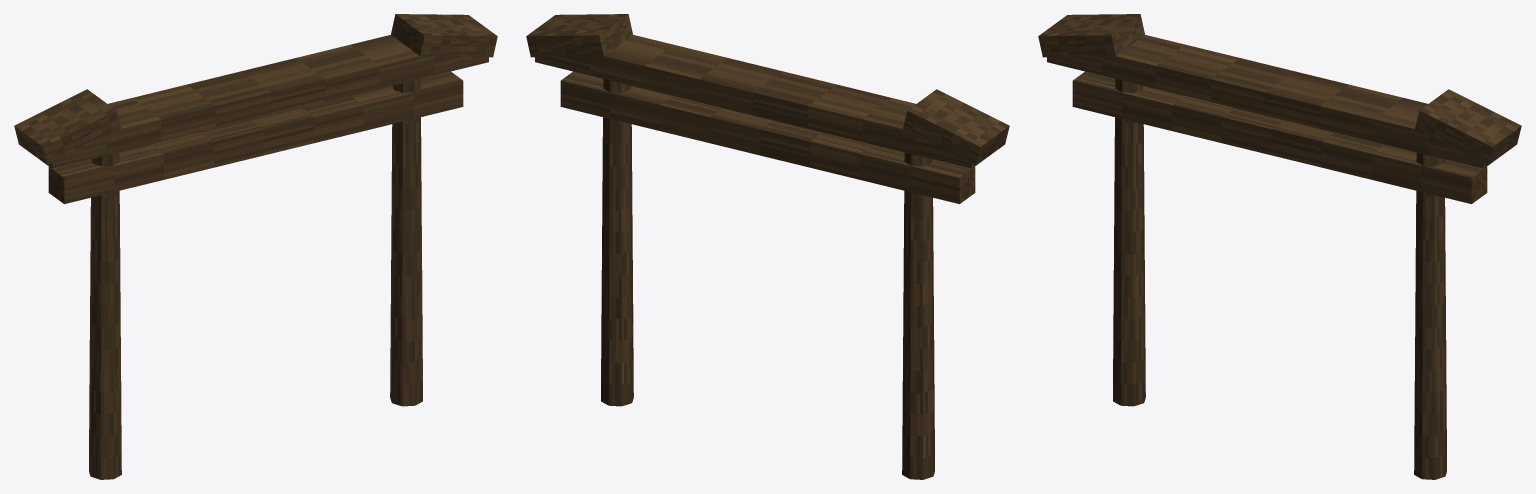
Rendered from gate_21.glb.
3 renders of one model, left to right at view 1: azimuth 30°, elevation 25°; view 2: azimuth 150°, elevation 25°; view 3: azimuth 330°, elevation 25°, orthographic.
Parts seen in each view (by area): view 1: Roof, Lintel, Pillar, Pillar.001, RaisedEave, RaisedEave.001; view 2: Roof, Lintel, Pillar, Pillar.001, RaisedEave, RaisedEave.001; view 3: Roof, Lintel, Pillar.001, Pillar, RaisedEave.001, RaisedEave.
Part boxes in pixels (x1,y1,x2,y2): Roof: [48, 35, 488, 168]; Lintel: [48, 71, 463, 204]; Pillar: [89, 152, 121, 479]; Pillar.001: [390, 79, 422, 406]; RaisedEave: [14, 89, 120, 165]; RaisedEave.001: [391, 14, 497, 57]; Roof: [535, 35, 975, 168]; Lintel: [560, 71, 975, 204]; Pillar: [902, 152, 934, 479]; Pillar.001: [601, 79, 633, 406]; RaisedEave: [903, 89, 1009, 165]; RaisedEave.001: [526, 14, 632, 57]; Roof: [1047, 35, 1487, 168]; Lintel: [1072, 71, 1487, 204]; Pillar.001: [1414, 152, 1446, 479]; Pillar: [1113, 79, 1145, 406]; RaisedEave.001: [1415, 89, 1521, 165]; RaisedEave: [1038, 14, 1144, 57].
Size of the model in its own units: 5.83 by 4.59 by 0.65.
1 material, 1 textured.
